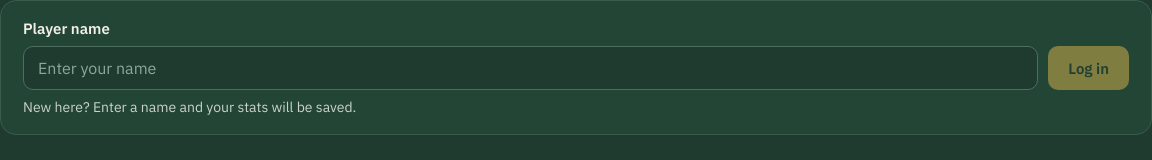
LoginForm › disables Log in until a name is typed
Check: the button "Log in" is disabled, box [1048,46,1129,90]
In the field labelled "Player name": (531, 68) [23,46,1038,90], type "Brock"
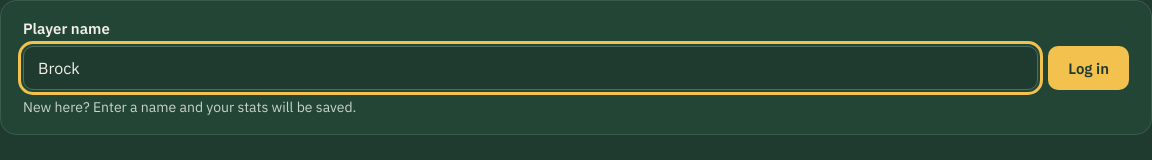
Check: the button "Log in" is enabled, box [1048,46,1129,90]
